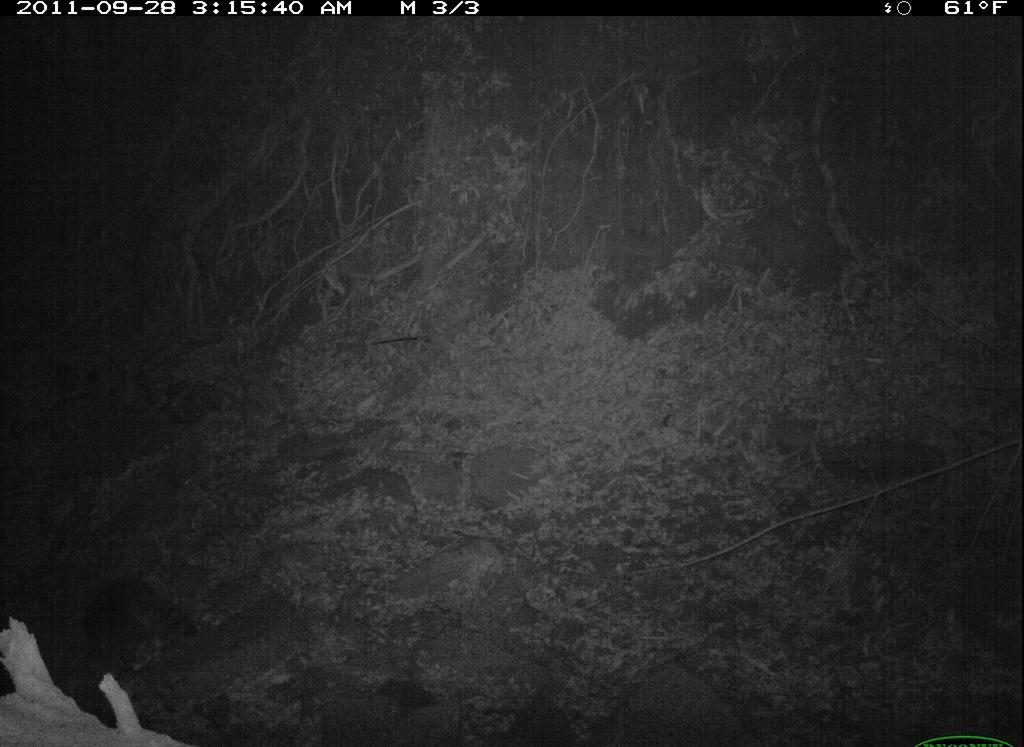raccoon: (79, 569, 205, 673)
